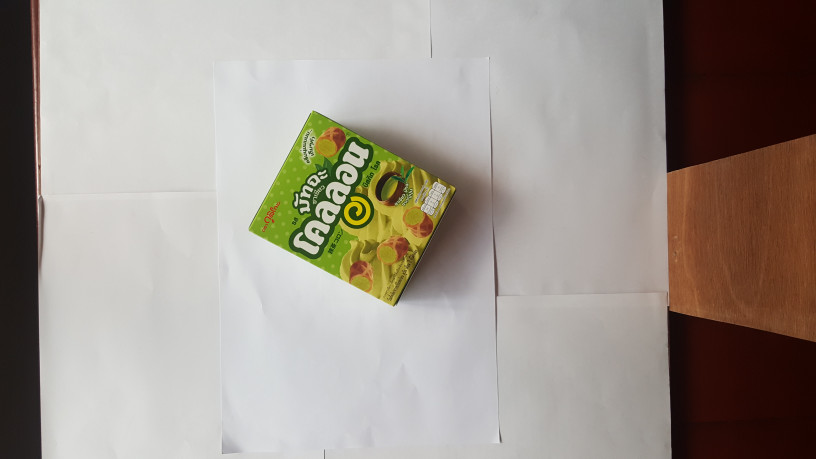collon-matcha: (244, 109, 457, 308)
